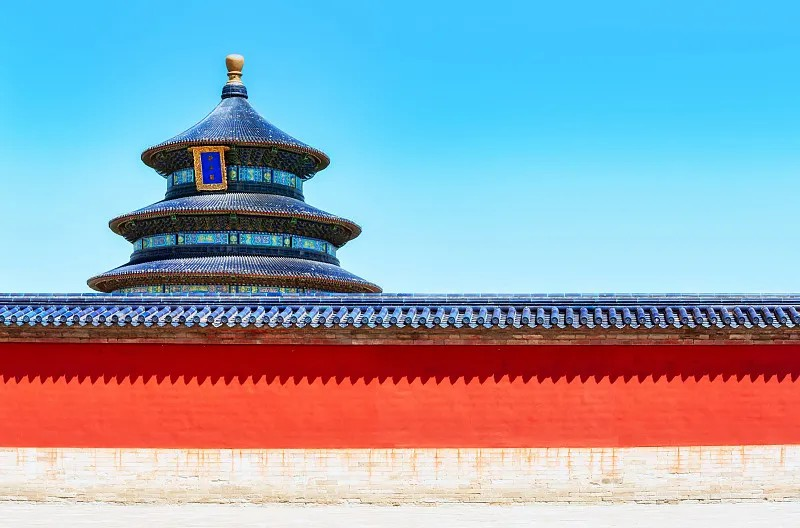Heaven: (87, 53, 383, 295)
